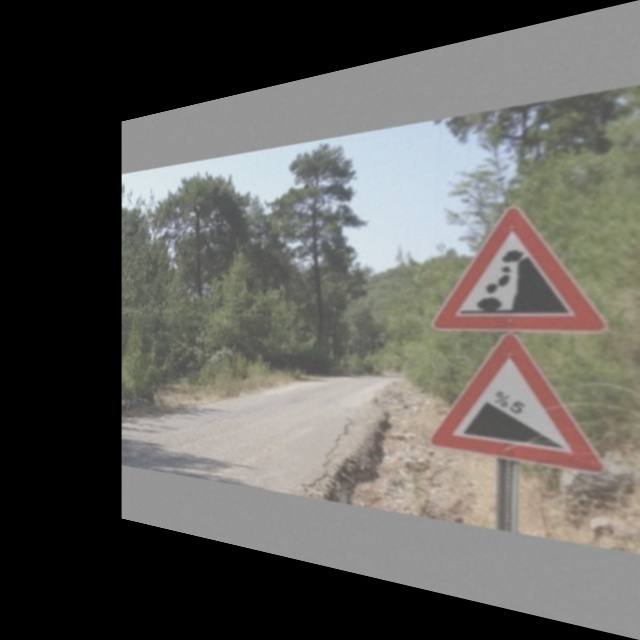Falling_Rocks: (438, 194, 600, 329)
